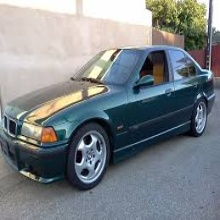no damage: (1, 44, 217, 191)
